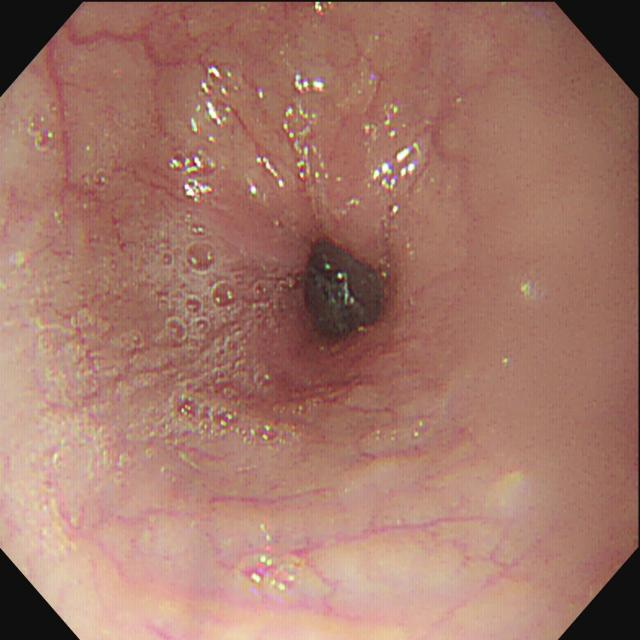E: (279, 214, 407, 361)
T: (11, 101, 152, 520), (154, 209, 286, 450), (236, 547, 306, 598)
U: (283, 103, 331, 183), (192, 64, 239, 144), (372, 144, 424, 193), (169, 152, 217, 205), (363, 101, 402, 141), (246, 157, 279, 201), (294, 74, 328, 95), (313, 2, 337, 17)
